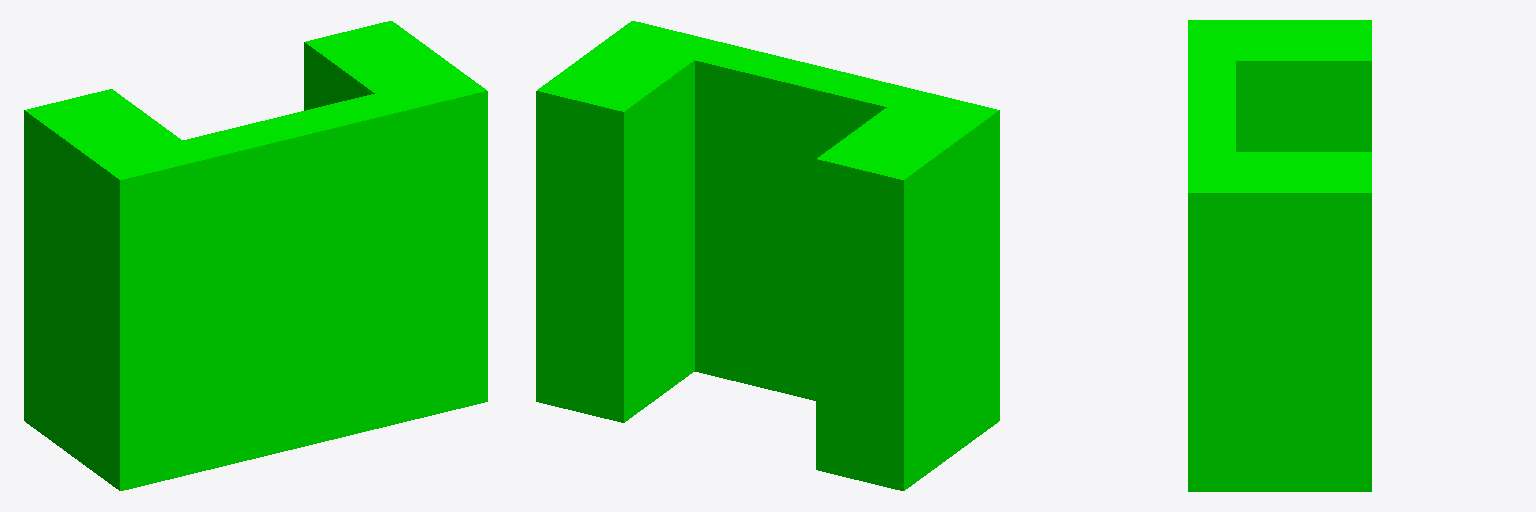
robot.urdf — main_robot:
<?xml version="1.0"?>
<robot name="main_robot">
  <material name="green">
    <color rgba="0 1 0 1"/>
  </material>

  <material name="transp">
    <color rgba="0 1 0 0.1"/>
  </material>

  <link name="main_robot">
    <!--visual>
      <origin xyz="0 0 .18" rpy="0 0 0" />
      <geometry>
        <box size="0.42 0.19 0.34" />
      </geometry>
      <material name="transp"/>
    </visual>
    <collision>
      <origin xyz="0 0 .18" rpy="0 0 0" />
      <geometry>
        <box size="0.42 0.19 0.34" />
      </geometry>
    </collision-->

    <visual>
      <origin xyz="-0.16 0 .18" rpy="0 0 0" />
      <geometry>
        <box size="0.1 0.19 0.34" />
      </geometry>
      <material name="green"/>
    </visual>
    <collision>
      <origin xyz="-0.16 0 .18" rpy="0 0 0" />
      <geometry>
        <box size="0.11 0.19 0.34" />
      </geometry>
    </collision>

    <visual>
      <origin xyz="0 -0.07 .18" rpy="0 0 0" />
      <geometry>
        <box size="0.22 0.05 0.34" />
      </geometry>
      <material name="green"/>
    </visual>
    <collision>
      <origin xyz="0 -0.07 .18" rpy="0 0 0" />
      <geometry>
        <box size="0.22 0.05 0.34" />
      </geometry>
    </collision>

    <visual>
      <origin xyz="0.16 0 .18" rpy="0 0 0" />
      <geometry>
        <box size="0.1 0.19 0.34" />
      </geometry>
      <material name="green"/>
    </visual>
    <collision>
      <origin xyz="0.16 0 .18" rpy="0 0 0" />
      <geometry>
        <box size="0.1 0.19 0.34" />
      </geometry>
    </collision>
  </link>

</robot>

--- What the picture shows (computed from the rendered views, not written in the file) ---
Views: 3 orthographic renders of the robot side by side, from view 1: azimuth 30°, elevation 25°; view 2: azimuth 150°, elevation 25°; view 3: azimuth 270°, elevation 25°.
Robot: main_robot — 1 links, 0 joints (none); root link main_robot; default pose: every joint at zero.
Visible links, largest first — view 1: main_robot; view 2: main_robot; view 3: main_robot.
Link boxes in pixels (x1,y1,x2,y2): main_robot: [24, 21, 487, 490]; main_robot: [536, 21, 999, 490]; main_robot: [1188, 20, 1371, 491].
Size in the robot's own frame: 0.42 by 0.19 by 0.34 metres.
Geometry: primitives only (box / cylinder / sphere), no mesh files.